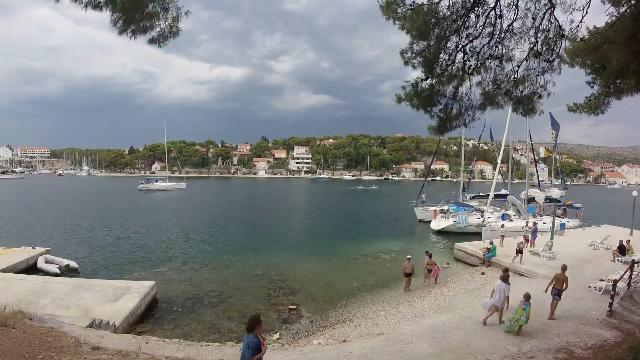Freighter: (0, 164, 28, 180)
Sailboat: (132, 176, 188, 194)
